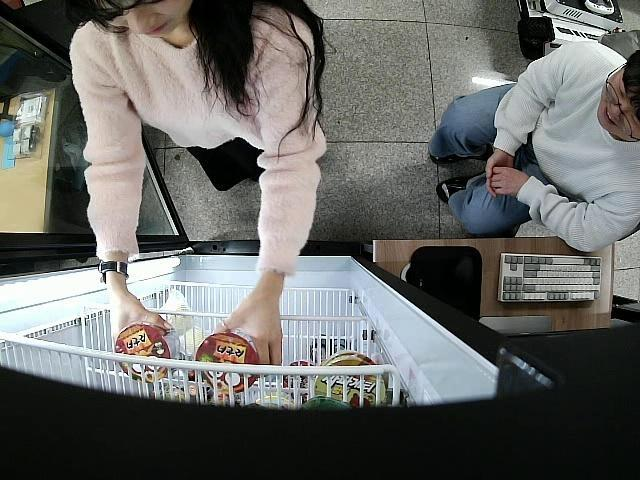06_nuguri_S: (196, 330, 260, 395), (116, 324, 180, 380)
